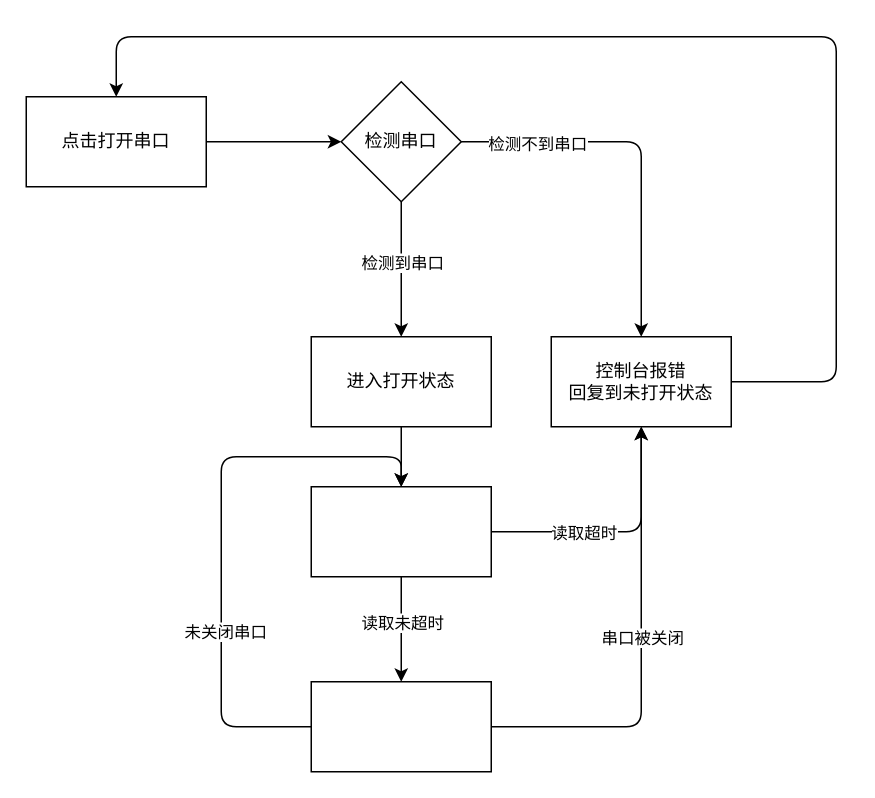
Image size: 875x798. Some labels were removed from this diagram. Each missing label, with the centre of its shape:
"更新绘制的图像" belongs at (x=400, y=726).
"读取数据" belongs at (x=400, y=531).
